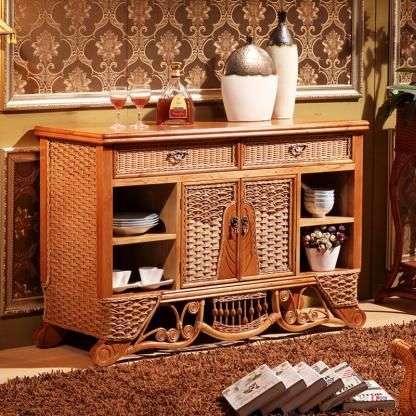Cupboard: (30, 105, 369, 368)
